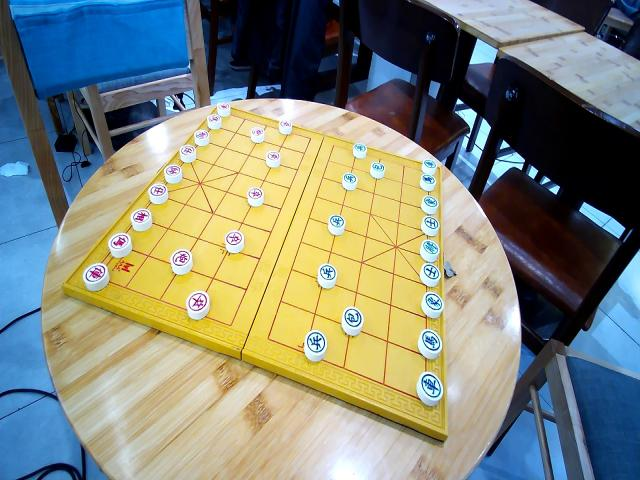piece: (416, 371, 442, 406), (416, 327, 442, 360), (82, 262, 109, 292), (303, 329, 327, 362), (185, 290, 209, 320), (341, 305, 364, 336), (420, 291, 444, 319), (108, 232, 132, 258), (170, 248, 192, 275), (419, 262, 441, 287), (317, 262, 337, 289), (130, 206, 152, 230), (224, 229, 243, 253), (419, 240, 439, 262), (148, 183, 168, 204), (420, 194, 438, 215), (164, 163, 182, 183), (246, 186, 264, 205), (328, 214, 344, 235), (422, 215, 439, 234), (341, 172, 357, 191), (179, 143, 195, 162), (420, 172, 436, 190), (194, 128, 210, 145), (421, 159, 437, 175), (352, 141, 367, 158), (265, 150, 280, 167), (370, 160, 384, 178), (250, 125, 264, 142), (278, 117, 292, 134), (207, 114, 221, 130), (216, 102, 230, 117)
